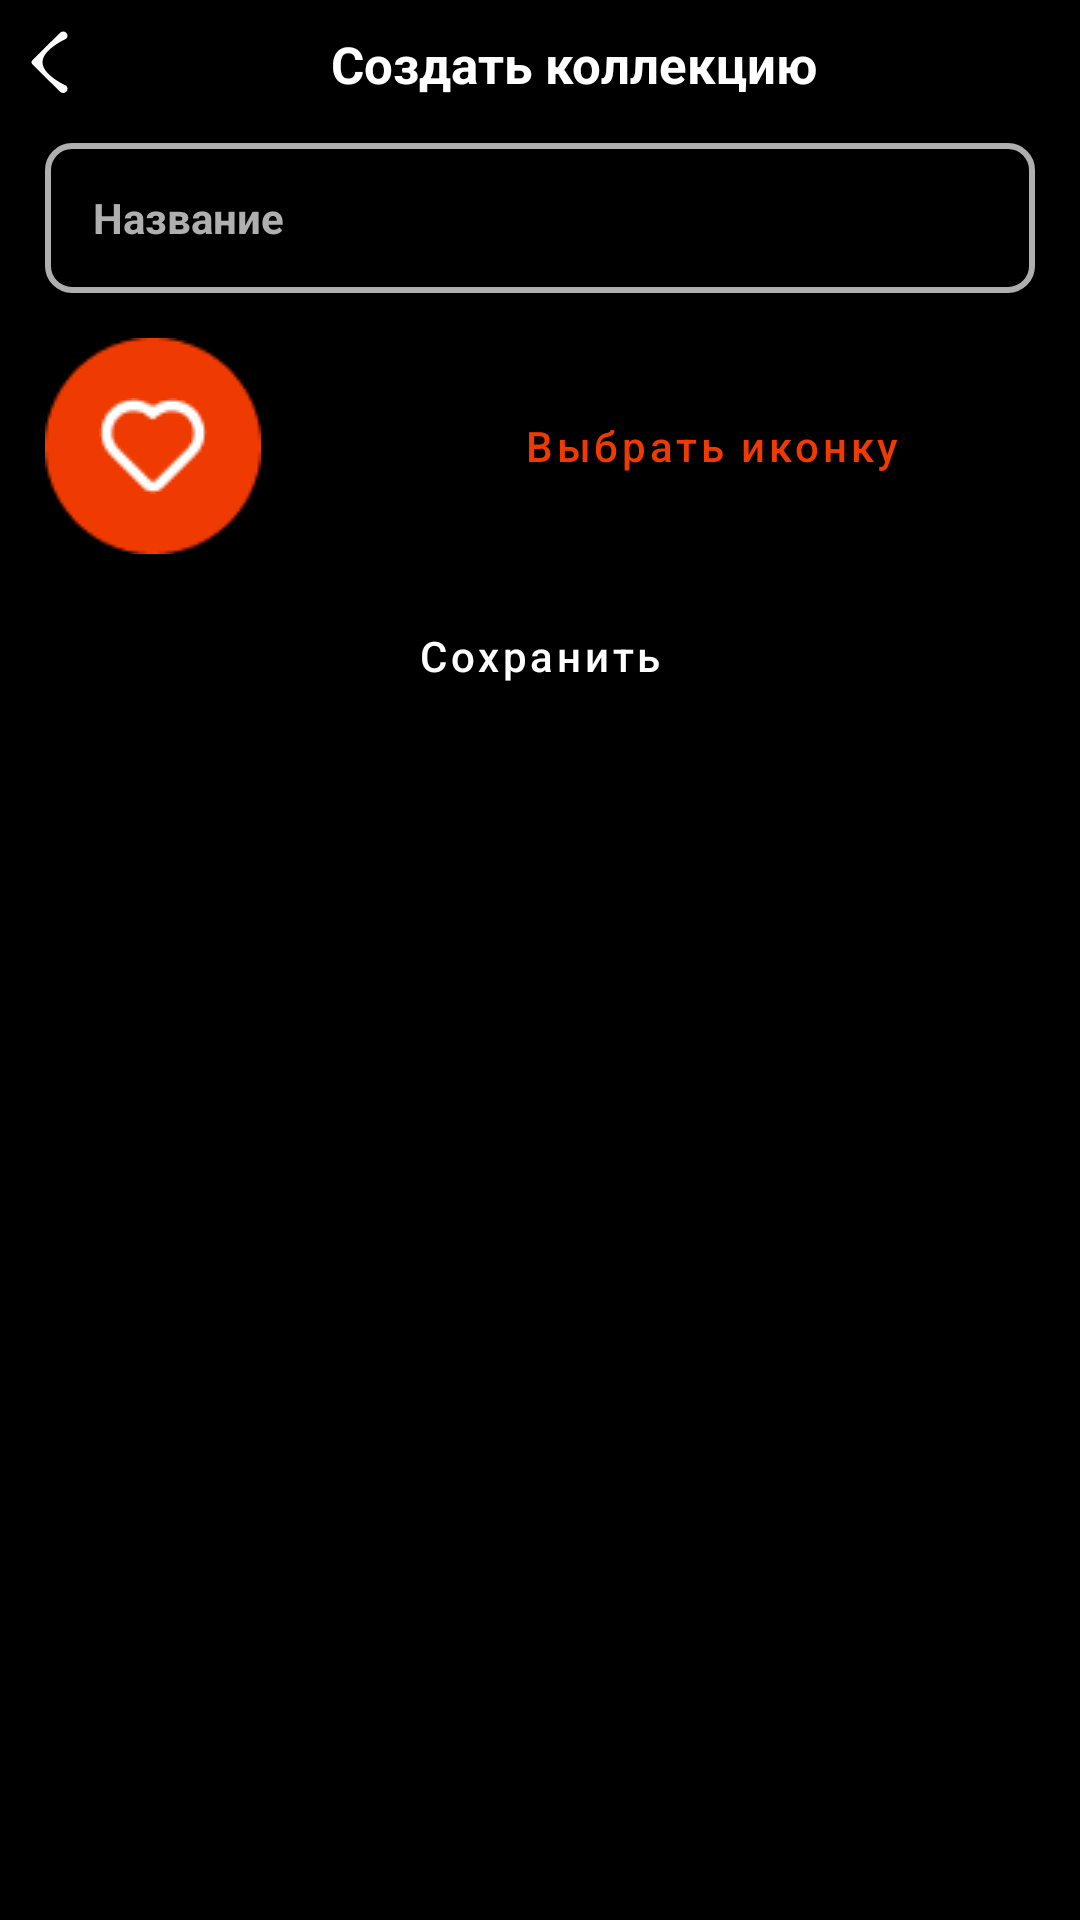

Where icons sit on this 1080 × 1920 app screen, as (x1, y1, x2, y2):
arrow left: (31, 31, 68, 93)
